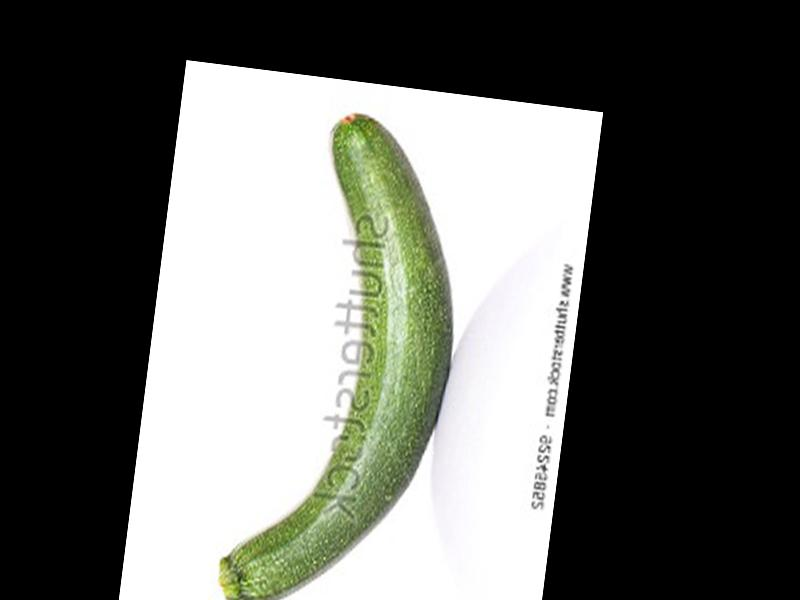Cucumber: (214, 104, 478, 600)
